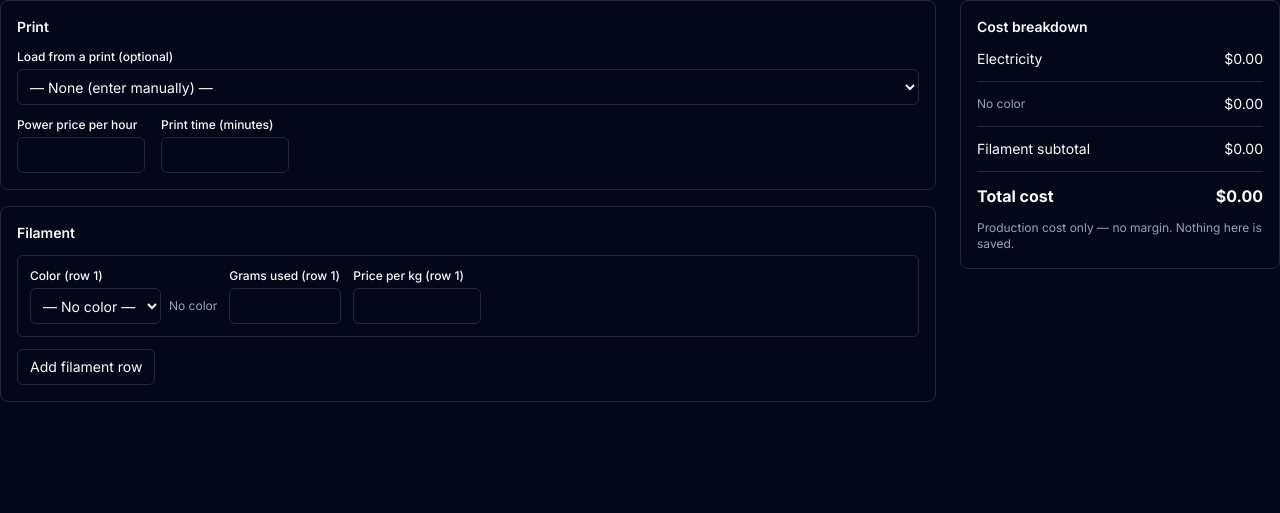
add / remove rows (R9) › Add filament row appends an empty row
expect the number of number fields labelled "Grams used (row 1)" is 1: met, box [229,288,341,324]
Click the button "Add filament row" at (86, 367), box [17,349,155,385]
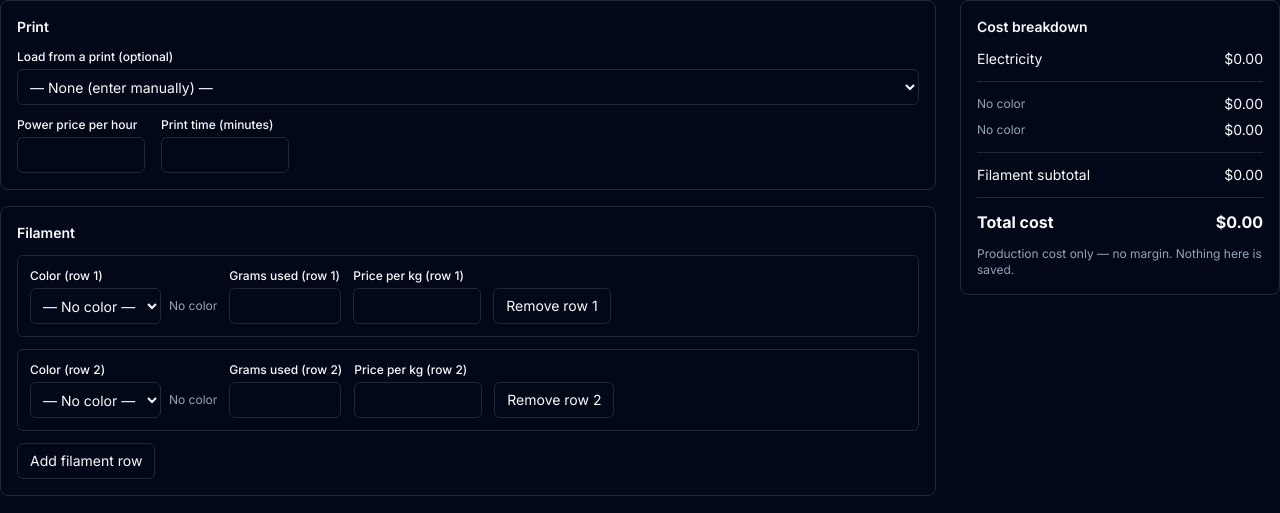
expect the number of number fields labelled "Grams used (row 1)" is 2: met, box [229,288,341,324]; [229,382,341,418]
expect the number field labelled "Grams used (row 2)" is not empty: met, box [229,382,341,418]
